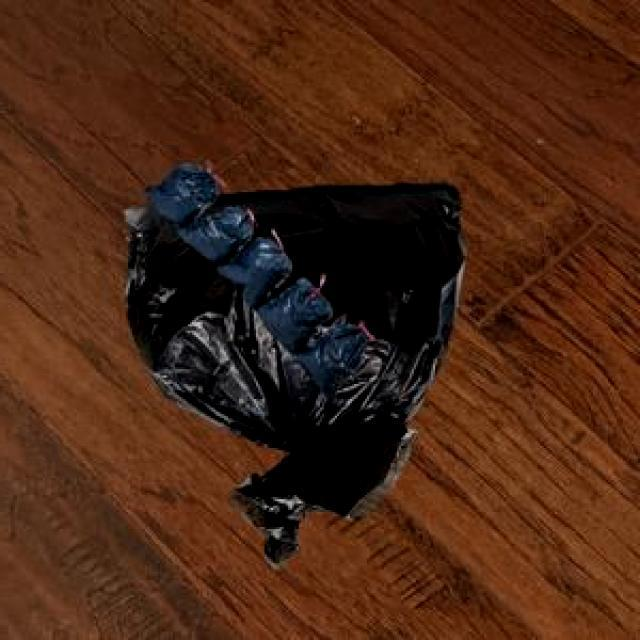Trashbag: (141, 162, 219, 220), (268, 279, 331, 346), (228, 238, 290, 304), (311, 328, 369, 394), (190, 205, 250, 259)
